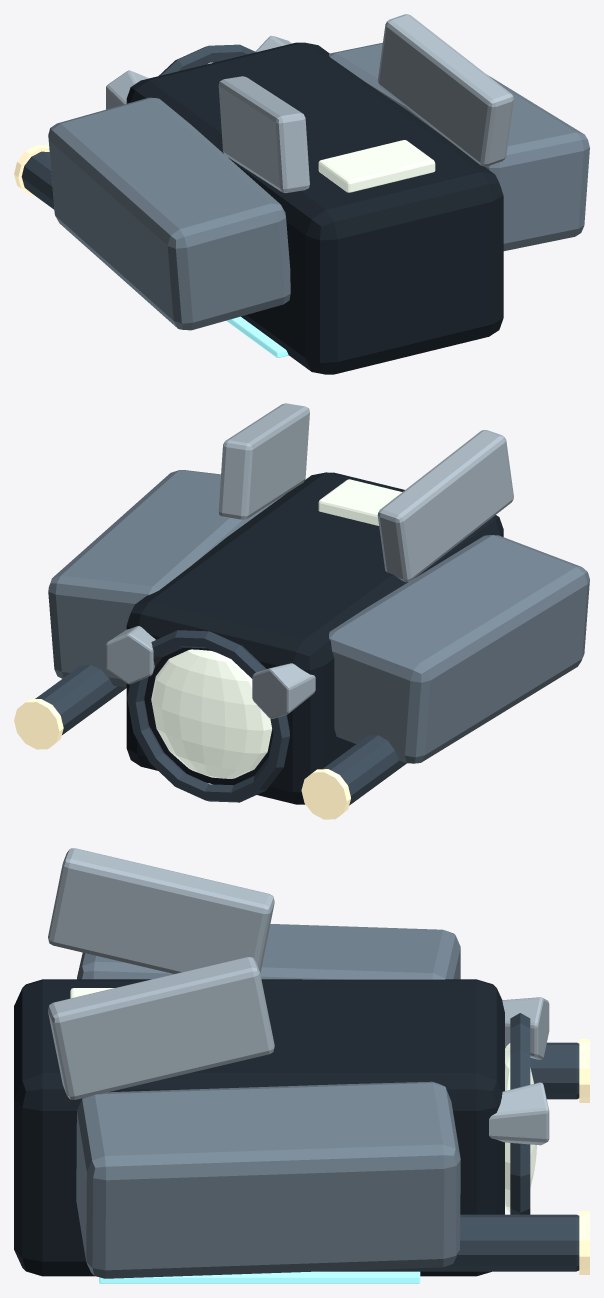
File: boss.glb
3 renders of one model, top to bottom at view 1: azimuth 30°, elevation 25°; view 2: azimuth 150°, elevation 25°; view 3: azimuth 270°, elevation 25°, orthographic. The views are drawn at different scales.
Parts seen in each view (by area): view 1: CoreChassis, ShoulderArmor_-1, ShoulderArmor_1, CrownBlade_1, CrownBlade_-1, CoreVent_0.66, SiegeCannon_-1, ReactorContainment, Mandible_-1, EnergyRail_-1, SiegeMuzzle_-1; view 2: ShoulderArmor_-1, CoreChassis, ShoulderArmor_1, ReactorCore, CrownBlade_-1, CrownBlade_1, ReactorContainment, SiegeCannon_1, SiegeCannon_-1, Mandible_-1, CoreVent_0.66, Mandible_1 (+2 smaller); view 3: ShoulderArmor_1, CoreChassis, CrownBlade_1, CrownBlade_-1, ShoulderArmor_-1, SiegeCannon_1, EnergyRail_1, Mandible_1, ReactorContainment, SiegeCannon_-1, Mandible_-1, ReactorCore (+2 smaller).
Part boxes in pixels (x1,y1,x2,y2): CoreChassis: (126, 42, 503, 374); ShoulderArmor_-1: (48, 97, 290, 330); ShoulderArmor_1: (329, 42, 589, 250); CrownBlade_1: (377, 14, 513, 166); CrownBlade_-1: (218, 76, 309, 192); CoreVent_0.66: (318, 140, 435, 192); SiegeCannon_-1: (21, 151, 54, 209); ReactorContainment: (159, 44, 256, 75); Mandible_-1: (106, 70, 148, 109); EnergyRail_-1: (226, 316, 288, 357); SiegeMuzzle_-1: (14, 145, 49, 195); ShoulderArmor_-1: (329, 535, 589, 763); CoreChassis: (126, 472, 503, 804); ShoulderArmor_1: (48, 470, 283, 687); ReactorCore: (151, 649, 271, 778); CrownBlade_-1: (377, 430, 513, 582); CrownBlade_1: (218, 403, 309, 520); ReactorContainment: (127, 630, 289, 802); SiegeCannon_1: (35, 665, 126, 734); SiegeCannon_-1: (322, 735, 406, 805); Mandible_-1: (252, 663, 315, 718); CoreVent_0.66: (318, 479, 401, 525); Mandible_1: (106, 626, 155, 684); ShoulderArmor_1: (76, 1081, 460, 1278); CoreChassis: (14, 979, 504, 1276); CrownBlade_1: (48, 957, 274, 1099); CrownBlade_-1: (48, 848, 274, 973); ShoulderArmor_-1: (77, 924, 460, 979); SiegeCannon_1: (321, 1214, 579, 1271); EnergyRail_1: (99, 1271, 420, 1283); Mandible_1: (489, 1082, 549, 1145); ReactorContainment: (510, 1013, 530, 1214); SiegeCannon_-1: (530, 1042, 579, 1099); Mandible_-1: (502, 997, 549, 1059); ReactorCore: (505, 1043, 536, 1212).
Size of the model in its own units: 3.33 by 1.99 by 3.23.
